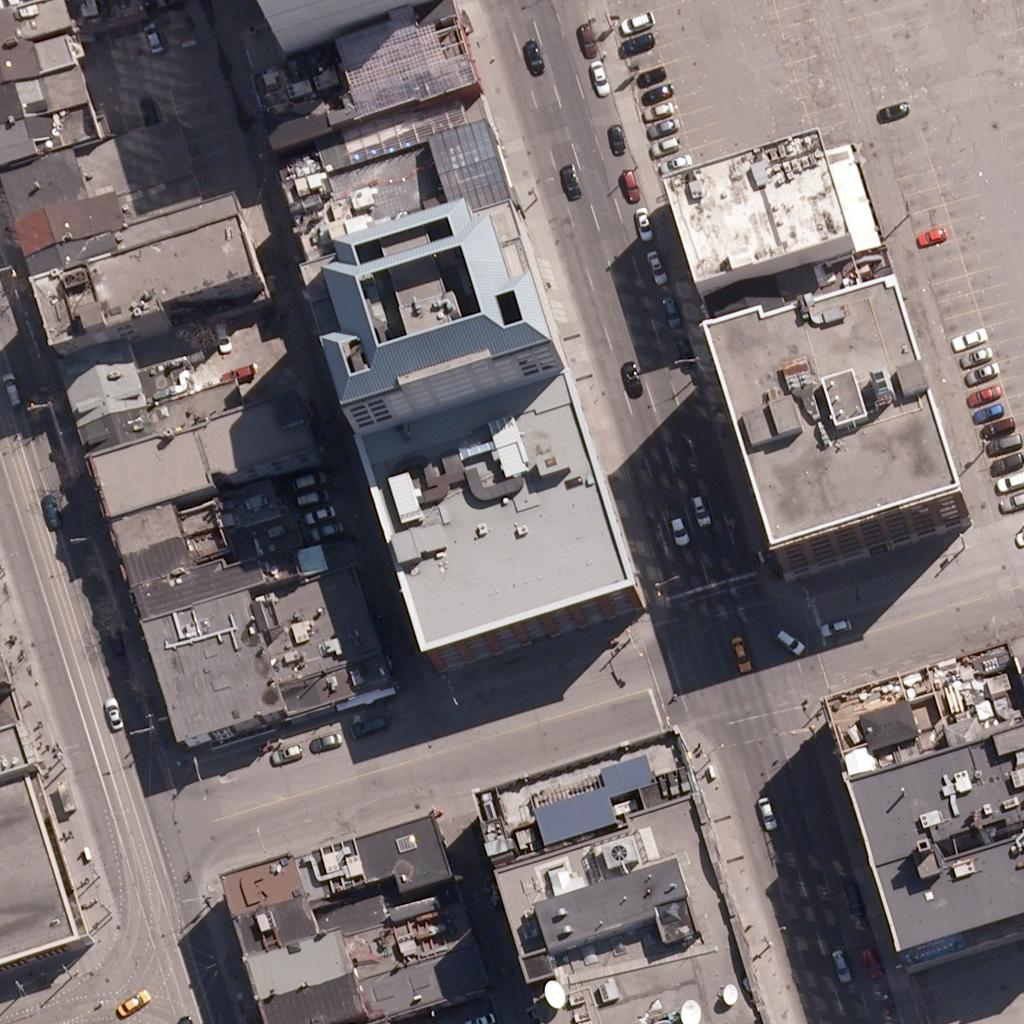car: (616, 3, 650, 37), (567, 20, 601, 54), (135, 21, 169, 55), (620, 23, 654, 57), (516, 40, 550, 74), (633, 58, 667, 92), (581, 59, 615, 93), (635, 74, 669, 108), (130, 90, 164, 124), (640, 92, 674, 126), (875, 93, 909, 127), (643, 108, 677, 142), (597, 118, 631, 152), (644, 129, 678, 163), (658, 144, 692, 178), (612, 164, 646, 198), (554, 165, 588, 199), (626, 204, 660, 238), (915, 217, 949, 251), (638, 247, 672, 281), (654, 293, 688, 327), (203, 318, 237, 352), (950, 319, 984, 353), (666, 333, 700, 367), (667, 333, 701, 367), (959, 337, 993, 371), (965, 353, 999, 387), (220, 355, 254, 389), (613, 361, 647, 395), (968, 376, 1002, 410), (968, 395, 1002, 429), (980, 408, 1014, 442), (985, 424, 1019, 458), (988, 442, 1022, 476), (291, 461, 325, 495), (296, 478, 330, 512), (680, 490, 714, 524), (31, 492, 65, 526), (301, 495, 335, 529), (659, 508, 693, 542), (309, 512, 343, 546), (818, 607, 852, 641), (770, 622, 804, 656), (721, 635, 755, 669), (93, 697, 127, 731), (350, 707, 384, 741), (307, 722, 341, 756), (268, 734, 302, 768), (749, 793, 783, 827), (837, 883, 871, 917), (854, 945, 888, 979), (822, 948, 856, 982), (114, 985, 148, 1019), (0, 372, 30, 406), (996, 461, 1024, 495), (1001, 480, 1024, 514), (462, 1004, 496, 1024)
